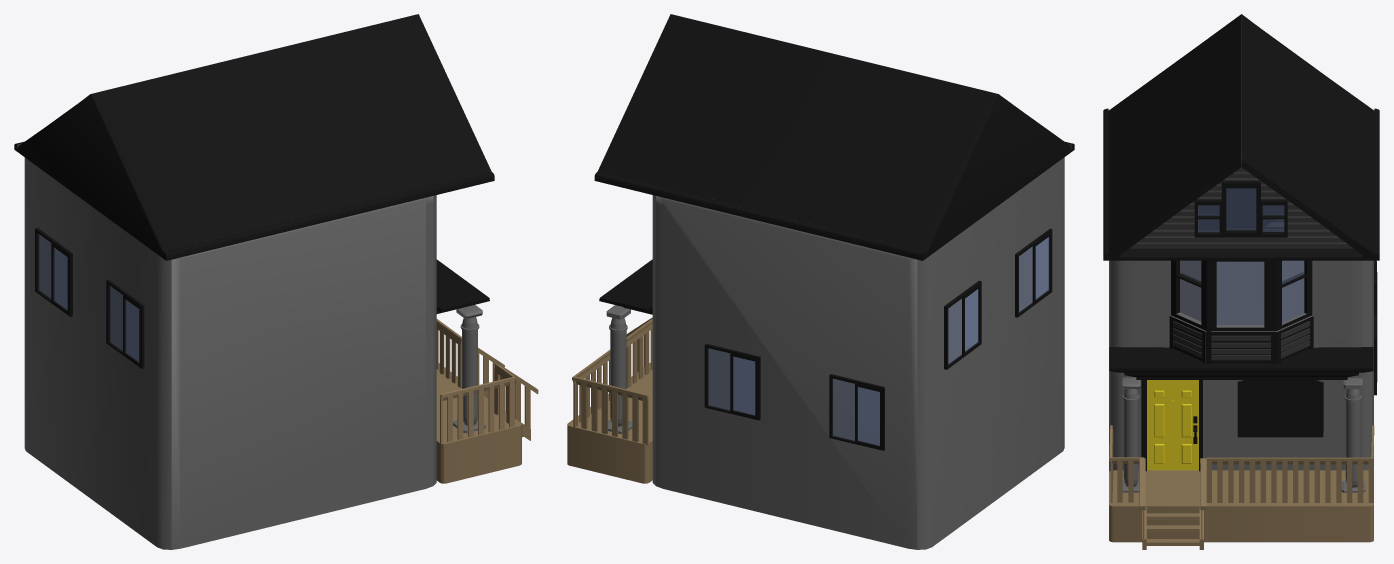
The model's file is house cannon st.fbx.
The picture shows the model from 3 angles, left to right: view 1: azimuth 30°, elevation 25°; view 2: azimuth 150°, elevation 25°; view 3: azimuth 270°, elevation 25°; orthographic projection. The views are drawn at different scales.
Visible parts, largest first — view 1: Cube.002, Cube.001, Cube.028, Cube.045, Cube.043, Cube.017, Cube.031, Cube.016, Cube.044, Cube.046; view 2: Cube.002, Cube.001, Cube.058, Cube.005, Cube.027, Cube.016, Cube.045, Cube.043, Cube.033, Cube.059, Cube.042, Cube.031 (+2 smaller); view 3: Cube.002, Cube.001, Cube.041, Cube.031, Cube.007, Cube.016, Cube.037, Cube.003, Cube.012, Cube.028, Cube.017, Cube.033 (+4 smaller).
Boxes of the visible parts, x1,y1,x2,y2 form: Cube.002: (14, 14, 494, 549); Cube.001: (436, 363, 521, 483); Cube.028: (440, 348, 538, 444); Cube.045: (106, 280, 144, 368); Cube.043: (35, 228, 72, 316); Cube.017: (453, 305, 485, 433); Cube.031: (436, 259, 489, 313); Cube.016: (436, 319, 461, 387); Cube.044: (51, 242, 69, 314); Cube.046: (123, 294, 140, 366); Cube.002: (594, 14, 1074, 549); Cube.001: (567, 363, 652, 483); Cube.058: (704, 343, 760, 420); Cube.005: (829, 374, 884, 450); Cube.027: (574, 377, 648, 445); Cube.016: (572, 318, 652, 427); Cube.045: (1015, 228, 1052, 317); Cube.043: (944, 280, 981, 369); Cube.033: (606, 305, 632, 433); Cube.059: (730, 352, 757, 418); Cube.042: (855, 383, 881, 448); Cube.031: (599, 259, 652, 314); Cube.002: (1103, 14, 1379, 471); Cube.001: (1109, 470, 1373, 542); Cube.041: (1169, 116, 1313, 363); Cube.031: (1109, 347, 1373, 379); Cube.007: (1129, 157, 1353, 248); Cube.016: (1206, 457, 1373, 502); Cube.037: (1237, 380, 1323, 437); Cube.003: (1147, 380, 1198, 470); Cube.012: (1194, 181, 1287, 237); Cube.028: (1109, 425, 1206, 549); Cube.017: (1122, 377, 1140, 492); Cube.033: (1341, 378, 1365, 492).
Size of the model in its own units: 815 by 801 by 544.
